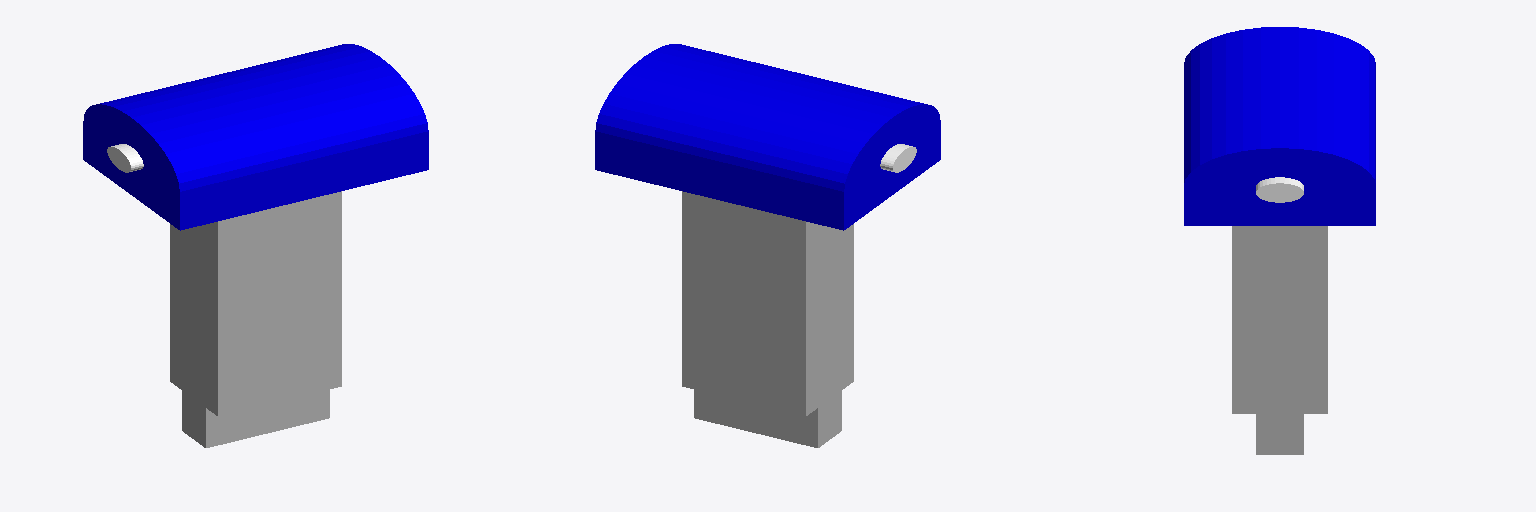
3 renders of one model, left to right at view 1: azimuth 30°, elevation 25°; view 2: azimuth 150°, elevation 25°; view 3: azimuth 270°, elevation 25°, orthographic.
Parts seen in each view (by area): view 1: body_r_prox_pinvpin_Cube.101; view 2: body_r_prox_pinvpin_Cube.101; view 3: body_r_prox_pinvpin_Cube.101.
Part boxes in pixels (x1,y1,x2,y2): body_r_prox_pinvpin_Cube.101: (83, 44, 428, 447); body_r_prox_pinvpin_Cube.101: (595, 44, 940, 447); body_r_prox_pinvpin_Cube.101: (1184, 27, 1375, 454).
Size of the model in its own units: 0.0704 by 0.0829 by 0.043.
2 materials, 1 textured.